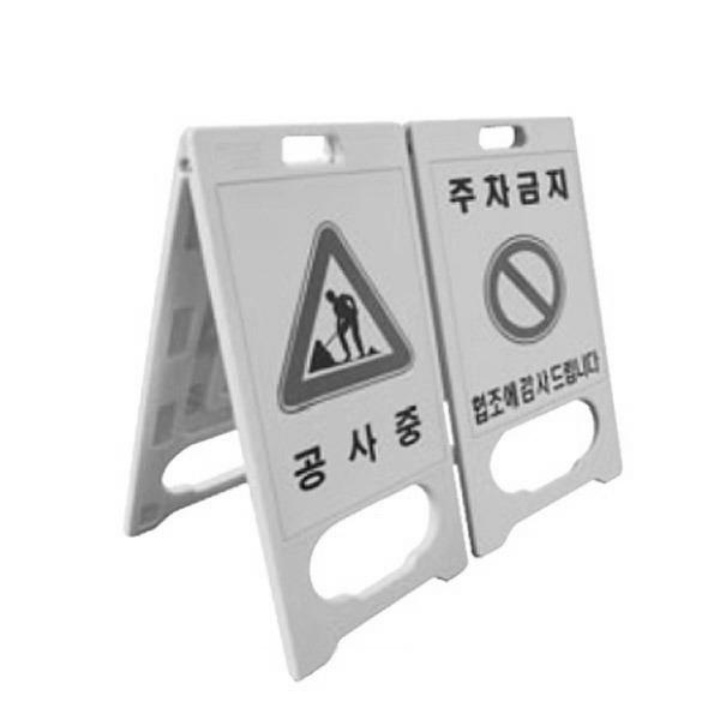const: (282, 281, 382, 383)
